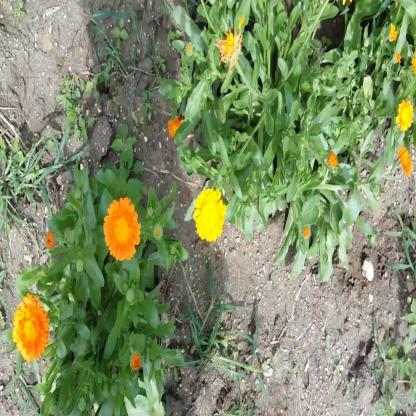marigold: (14, 295, 48, 361), (105, 198, 136, 260), (196, 186, 226, 242), (399, 103, 412, 129)
